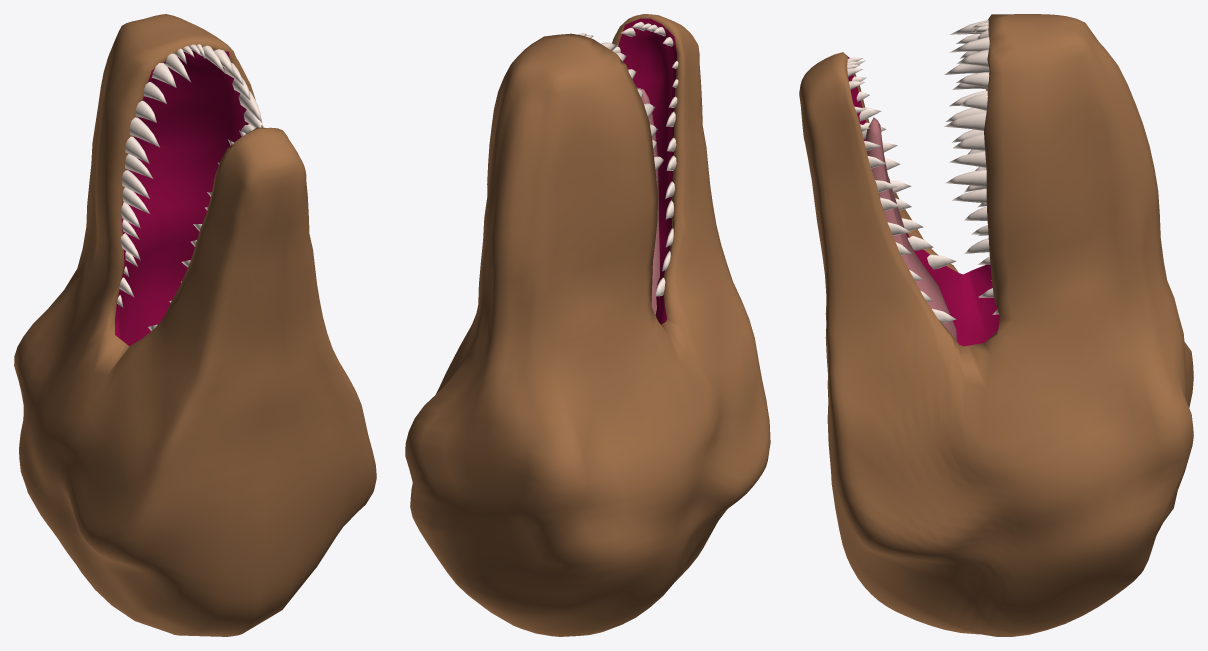
The model's file is Megazaur.fbx.
3 views of the same model, side by side, from view 1: azimuth 30°, elevation 25°; view 2: azimuth 150°, elevation 25°; view 3: azimuth 270°, elevation 25° (orthographic). The views are drawn at different scales.
Parts seen in each view (by area): view 1: Megazaur - Poliostasis; view 2: Megazaur - Poliostasis; view 3: Megazaur - Poliostasis.
Boxes of the visible parts, <box> form: Megazaur - Poliostasis: <box>14,14,376,636</box>; Megazaur - Poliostasis: <box>405,14,770,636</box>; Megazaur - Poliostasis: <box>799,14,1193,636</box>.
Bounding box in the file's own units: 59.76 × 124 × 74.1.
